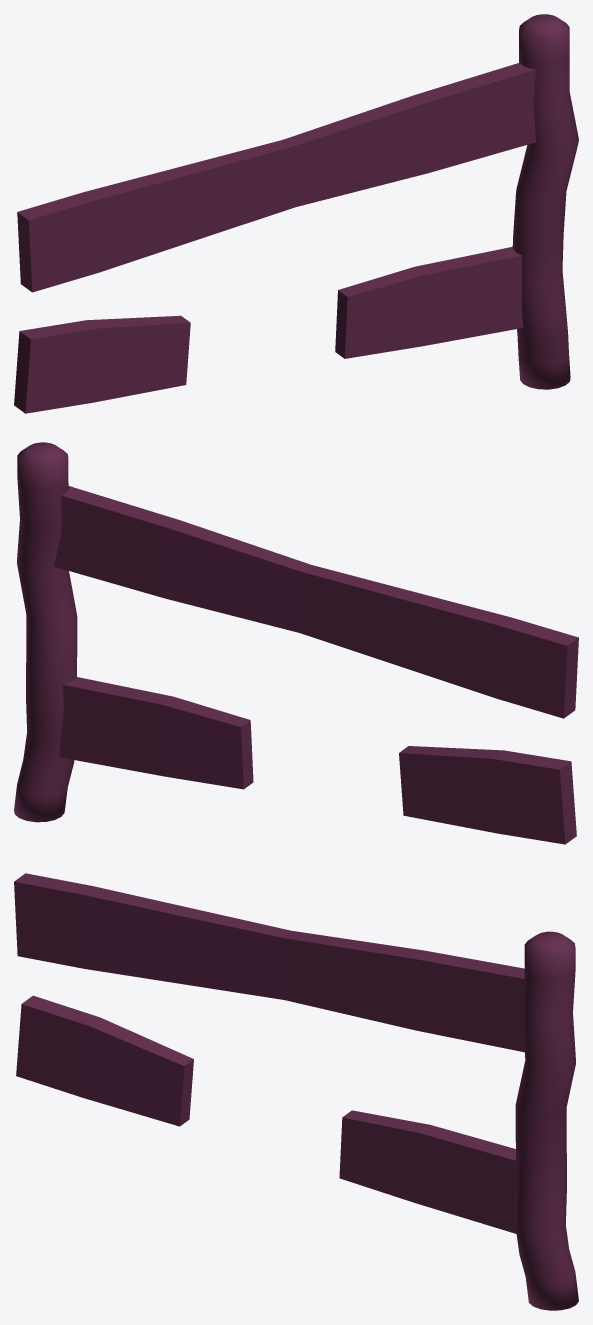
The model's file is FanceBroken.fbx.
3 views of the same model, one above another, from view 1: azimuth 30°, elevation 25°; view 2: azimuth 150°, elevation 25°; view 3: azimuth 330°, elevation 25° (orthographic).
Parts seen in each view (by area): view 1: Cube.001; view 2: Cube.001; view 3: Cube.001.
Boxes of the visible parts, <box> form: Cube.001: <box>14,14,578,413</box>; Cube.001: <box>14,442,578,844</box>; Cube.001: <box>14,873,578,1310</box>.
Bounding box in the file's own units: 321 × 200 × 31.28.
